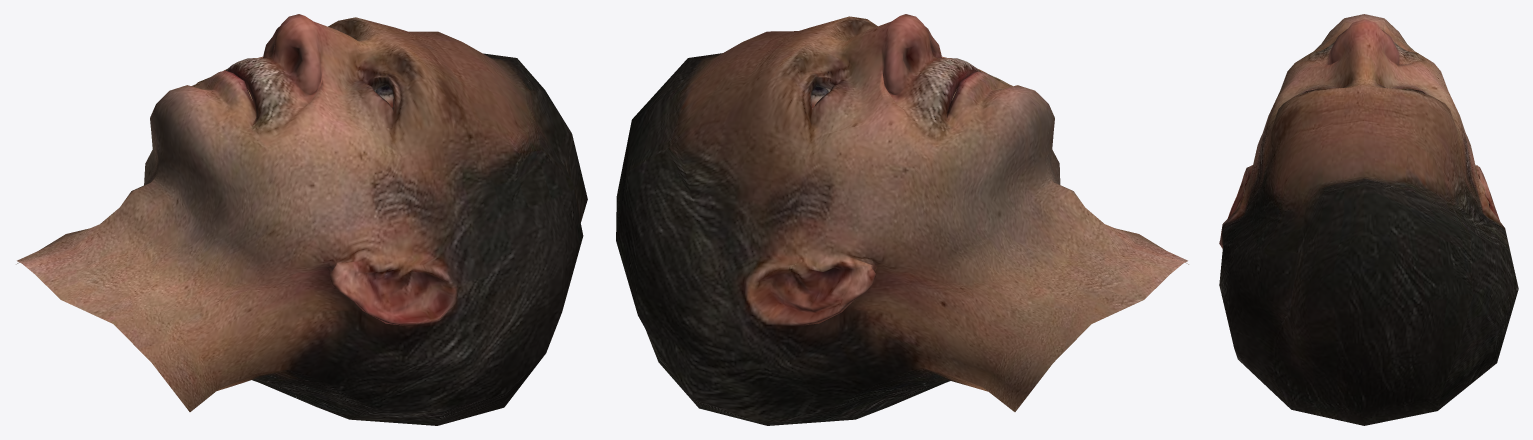
The model's file is head_us_ranger_harry.glb.
3 views of the same model, side by side, from view 1: azimuth 30°, elevation 25°; view 2: azimuth 150°, elevation 25°; view 3: azimuth 270°, elevation 25° (orthographic). The views are drawn at different scales.
Bounding box in the file's own units: 13.63 × 10.16 × 8.01.
1 material, 1 textured.
